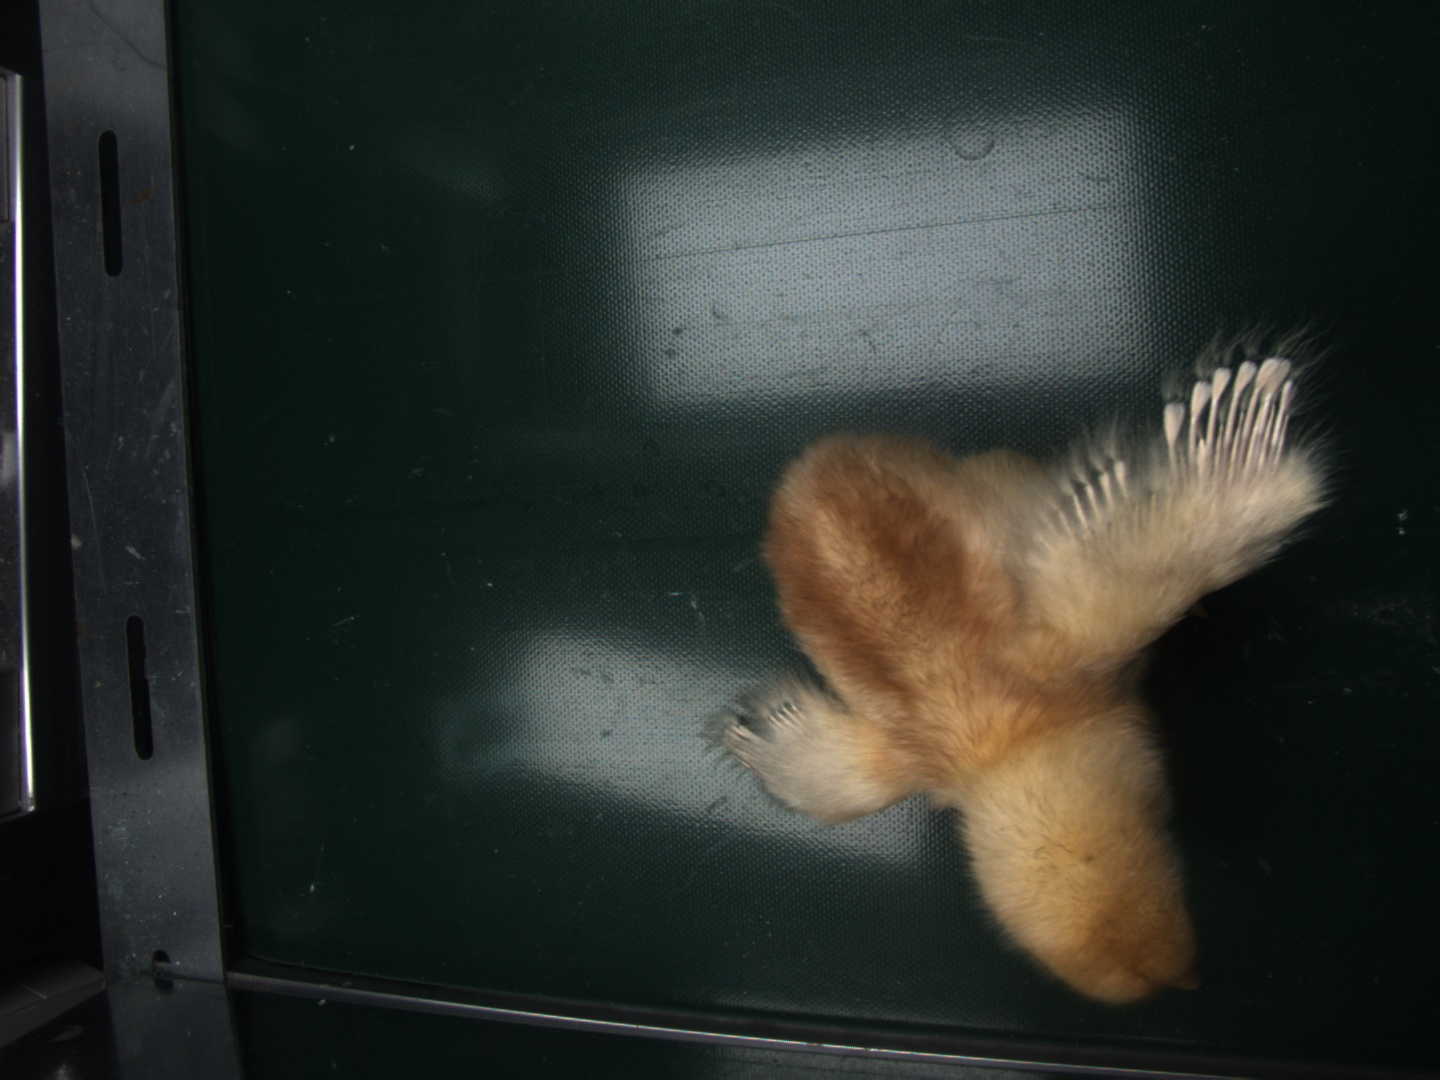female: (1177, 358, 1303, 467)
